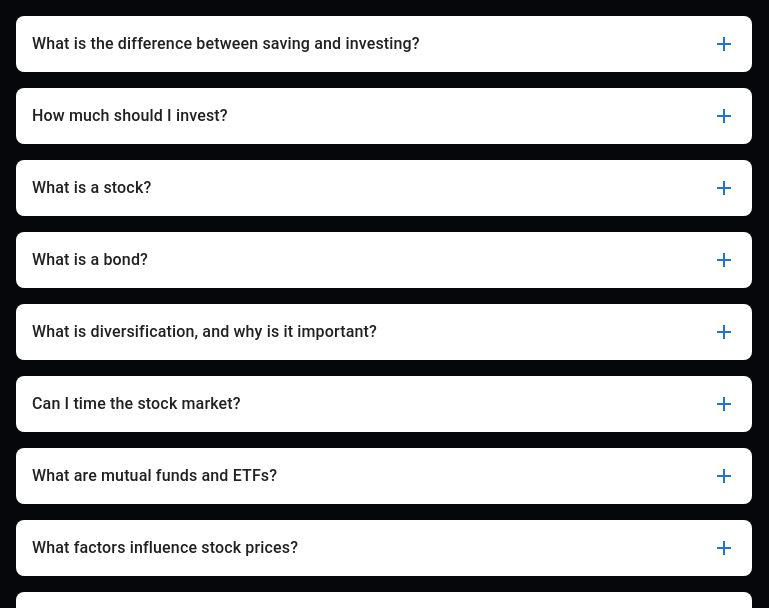
Scenario: FAQ Component › expands and collapses FAQ items when clicked
Step 1. Click the text "What is a stock?" → click(92, 188), box 32,178 -> 151,197
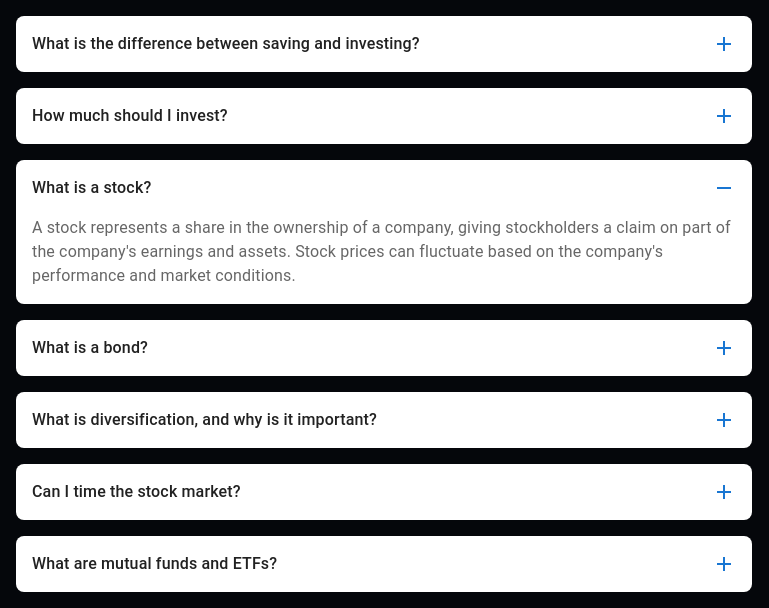
Now the text "A stock represents" is shown, box 32,218 -> 731,285
// Click again to collapse
Step 2. Click the text "What is a stock?" → click(92, 188), box 32,178 -> 151,197
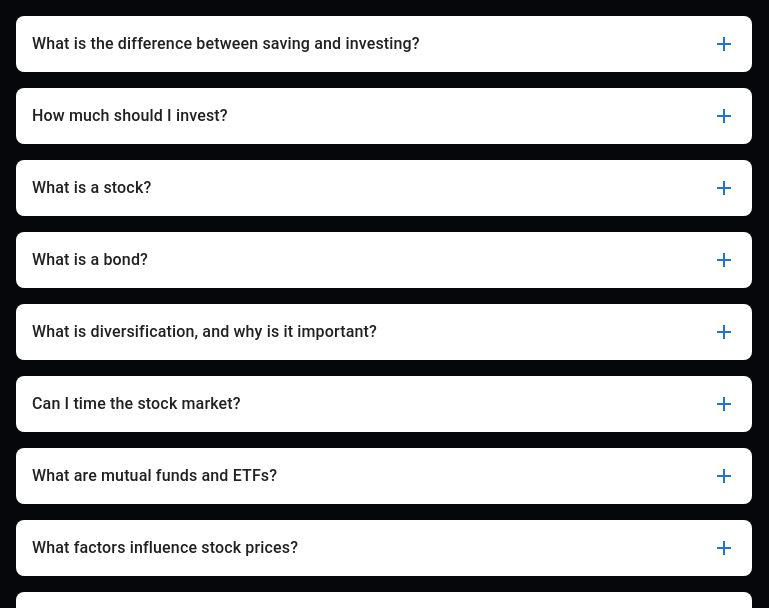
Now the text "A stock represents" is gone
